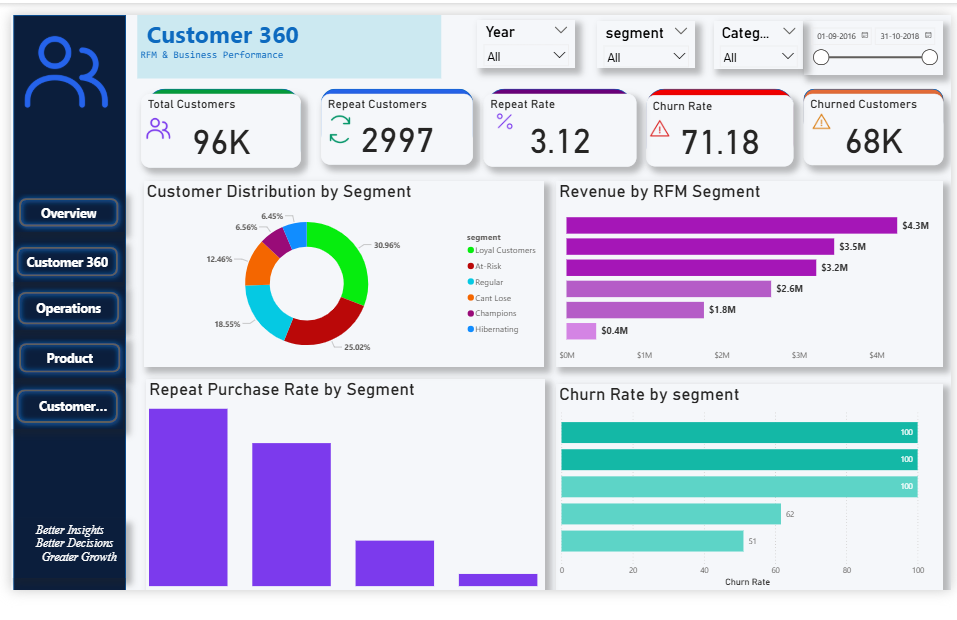

Layout of this report page (visuals, bound fields, positions):
{"tool":"powerbi","page":{"name":"Customer 360 & RFM","canvas":[1505,920],"ordinal":1},"visuals":[{"type":"donutChart","title":"Customer Distribution by Segment","fields":{"Category":["customer_360_master.segment"],"Y":["transactions_cleaned.Total Customers"]},"box":[211.7,266.7,641.7,296.7],"z":0},{"type":"clusteredBarChart","title":"Revenue by RFM Segment","fields":{"Category":["customer_360_master.segment"],"Y":["transactions_cleaned.Total Revenue"]},"box":[871.7,266.7,620,296.7],"z":1000},{"type":"clusteredBarChart","fields":{"Category":["customer_360_master.segment"],"Y":["transactions_cleaned.Churn Rate"]},"box":[872,590,620,330],"z":2000},{"type":"clusteredColumnChart","title":"Repeat Purchase Rate by Segment","fields":{"Category":["customer_360_master.segment"],"Y":["transactions_cleaned.Repeat Rate"]},"box":[216,582,638,338],"z":3000},{"type":"shape","box":[3.3,0,180,1093.3],"z":4000},{"type":"textbox","box":[201.7,0,486.7,101.7],"z":5000},{"type":"slicer","fields":{"Values":["Date_Table.Year"]},"box":[745.7,8,156.7,76.7],"z":6000},{"type":"slicer","fields":{"Values":["customer_360_master.segment"]},"box":[938.3,10,156.7,75],"z":7000},{"type":"slicer","title":"Category","fields":{"Values":["transactions_cleaned.Product_category_name_english"]},"box":[1124,10,144,76],"z":8000},{"type":"slicer","fields":{"Values":["Date_Table.Date"]},"box":[1268.3,10,223.3,86.7],"z":9000},{"type":"image","box":[0,0,184,186],"z":10000},{"type":"shape","box":[216,118,248,124],"z":11000},{"type":"shape","box":[760,118.3,235,120],"z":12000},{"type":"shape","box":[1016,118,236,118],"z":13000},{"type":"shape","box":[1268,118,224,70],"z":14000},{"type":"card","title":"Churned Customers","fields":{"Values":["transactions_cleaned.Churned Customers"]},"box":[1268,126,224,114],"z":15000},{"type":"image","box":[1268,150,58,42],"z":16000},{"type":"card","title":" Churn Rate","fields":{"Values":["transactions_cleaned.Churn Rate"]},"box":[1016,128,236,114],"z":17000},{"type":"card","title":"Repeat Rate","fields":{"Values":["transactions_cleaned.Repeat Rate"]},"box":[755,126.7,245,116.7],"z":18000},{"type":"image","box":[760,148,60,44],"z":19000},{"type":"shape","box":[495,118.3,243.3,93.3],"z":20000},{"type":"card","title":"Repeat Customers","fields":{"Values":["transactions_cleaned.Repeat Customers"]},"box":[495,126.7,243.3,113.3],"z":21000},{"type":"card","title":"Total Customers","fields":{"Values":["transactions_cleaned.Total Customers"]},"box":[208,126,256,118],"z":22000},{"type":"image","box":[202,152,70,60],"z":23000},{"type":"image","box":[496,154,60,58],"z":24000},{"type":"image","box":[1016,152,44,60],"z":25000},{"type":"actionButton","box":[3.3,283.3,176.7,63.3],"z":26000},{"type":"actionButton","box":[0,361.7,180,65],"z":27000},{"type":"actionButton","box":[1.7,433.3,180,70],"z":28000},{"type":"actionButton","box":[3.3,515,180,65],"z":29000},{"type":"actionButton","box":[0,590,180,71.7],"z":30000},{"type":"textbox","box":[1.7,808.3,181.7,93.3],"z":31000}]}

Visuals, with their boxes on the page's 1505x920 design canvas (x1, y1, x2, y2). These are canvas units, not pixel positions in the 957x620 screenshot, which may show the page scaled, cropped or inside an application window:
"Customer Distribution by Segment" donutChart: left=212, top=267, right=853, bottom=563
"Revenue by RFM Segment" clusteredBarChart: left=872, top=267, right=1492, bottom=563
clusteredBarChart - customer_360_master.segment x transactions_cleaned.Churn Rate: left=872, top=590, right=1492, bottom=920
"Repeat Purchase Rate by Segment" clusteredColumnChart: left=216, top=582, right=854, bottom=920
shape: left=3, top=0, right=183, bottom=1093
textbox: left=202, top=0, right=688, bottom=102
slicer - Date_Table.Year: left=746, top=8, right=902, bottom=85
slicer - customer_360_master.segment: left=938, top=10, right=1095, bottom=85
"Category" slicer: left=1124, top=10, right=1268, bottom=86
slicer - Date_Table.Date: left=1268, top=10, right=1492, bottom=97
image: left=0, top=0, right=184, bottom=186
shape: left=216, top=118, right=464, bottom=242
shape: left=760, top=118, right=995, bottom=238
shape: left=1016, top=118, right=1252, bottom=236
shape: left=1268, top=118, right=1492, bottom=188
"Churned Customers" card: left=1268, top=126, right=1492, bottom=240
image: left=1268, top=150, right=1326, bottom=192
" Churn Rate" card: left=1016, top=128, right=1252, bottom=242
"Repeat Rate" card: left=755, top=127, right=1000, bottom=243
image: left=760, top=148, right=820, bottom=192
shape: left=495, top=118, right=738, bottom=212
"Repeat Customers" card: left=495, top=127, right=738, bottom=240
"Total Customers" card: left=208, top=126, right=464, bottom=244
image: left=202, top=152, right=272, bottom=212
image: left=496, top=154, right=556, bottom=212
image: left=1016, top=152, right=1060, bottom=212
actionButton: left=3, top=283, right=180, bottom=347
actionButton: left=0, top=362, right=180, bottom=427
actionButton: left=2, top=433, right=182, bottom=503
actionButton: left=3, top=515, right=183, bottom=580
actionButton: left=0, top=590, right=180, bottom=662
textbox: left=2, top=808, right=183, bottom=902
